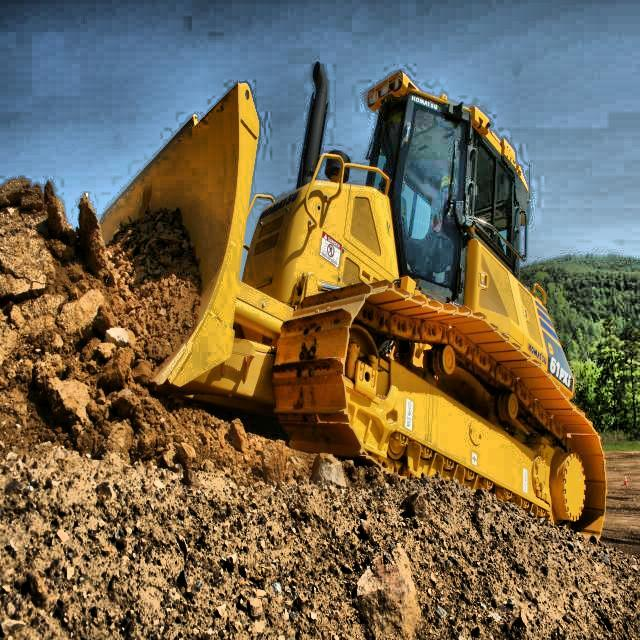bull_dozer/loader/grader: (108, 19, 622, 549)
